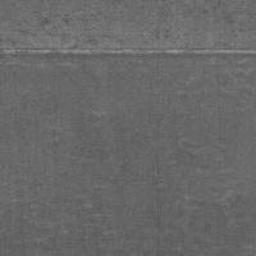Welding line: (0, 42, 256, 56)
